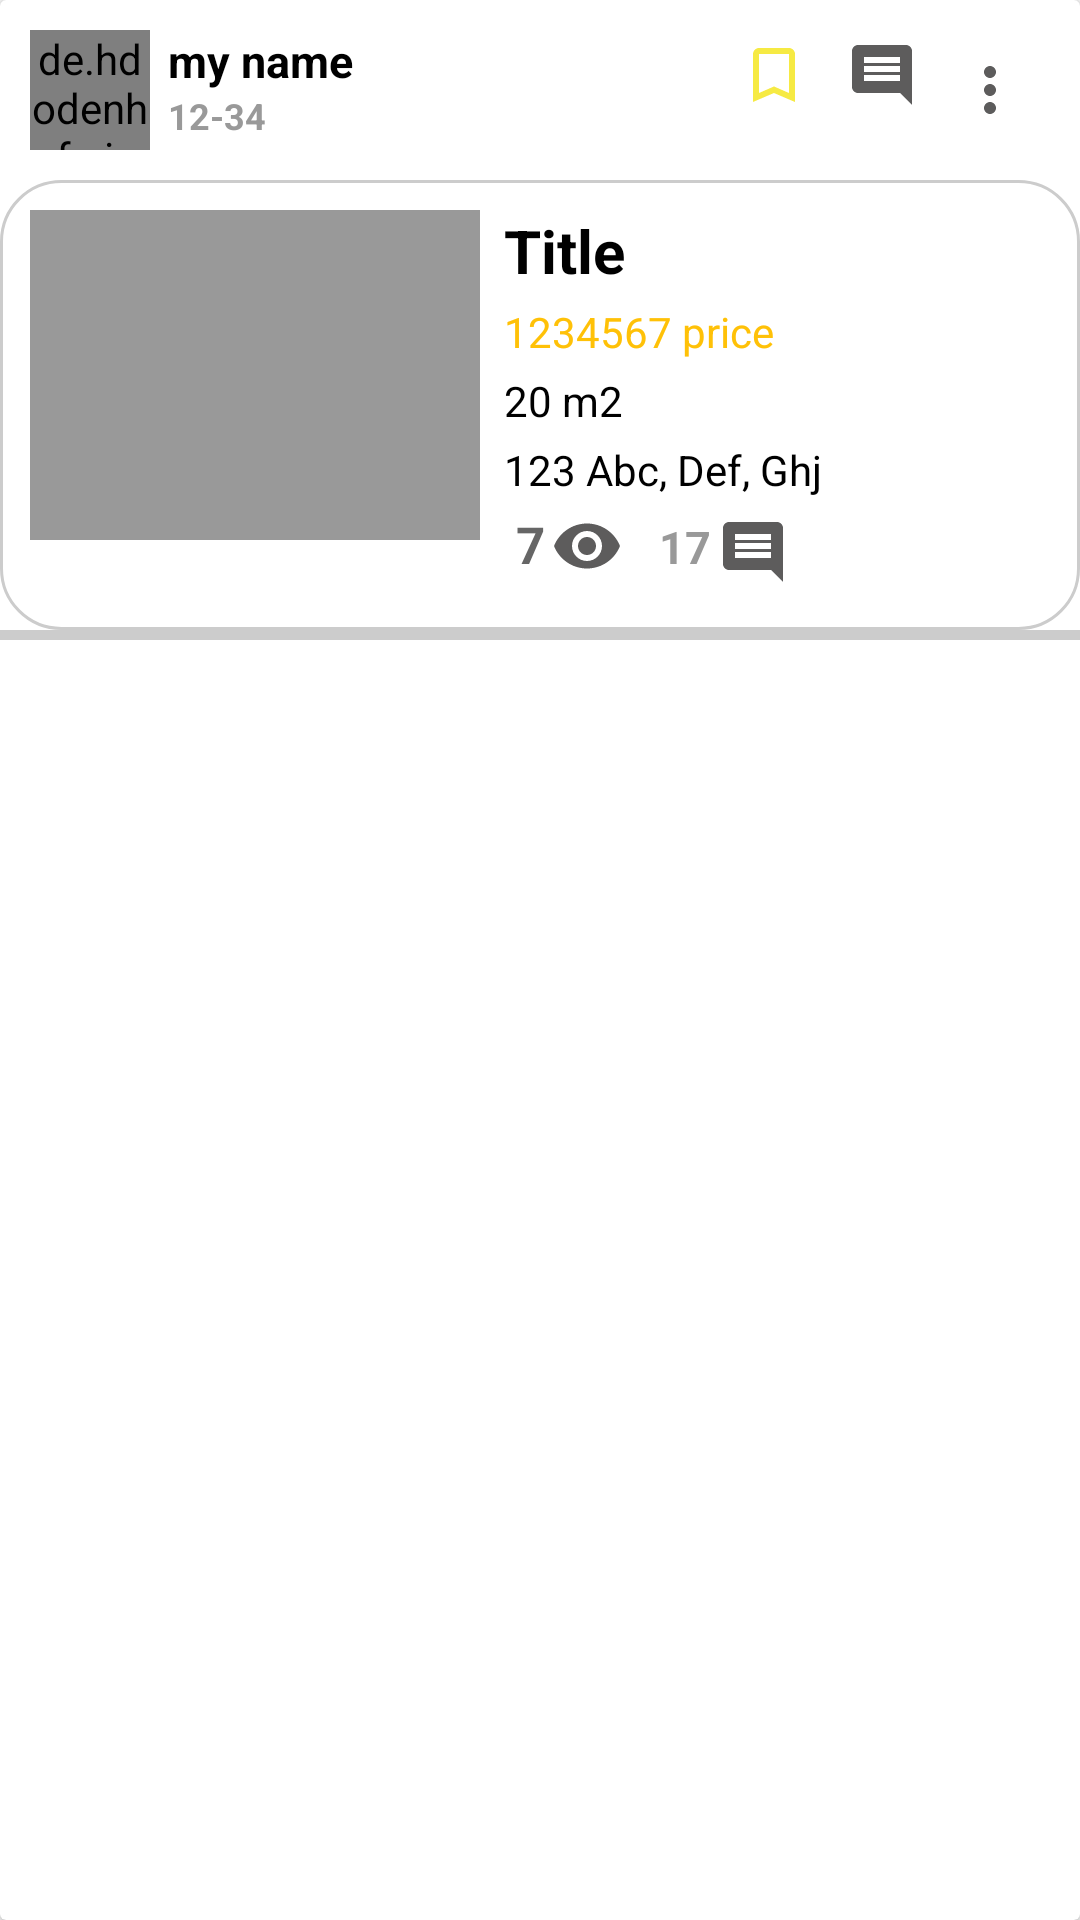

Screen size 1080×1920. Icon name, then its box in pixels as Rect(x1, y1, x2, y2):
bookmark border: Rect(753, 48, 795, 102)
insert comment: Rect(852, 45, 912, 105)
more vert: Rect(984, 66, 996, 114)
